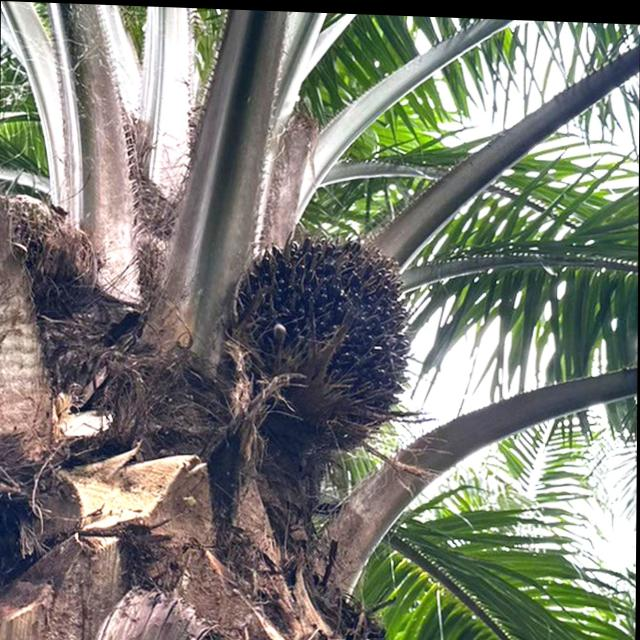unripe: (220, 224, 416, 454)
